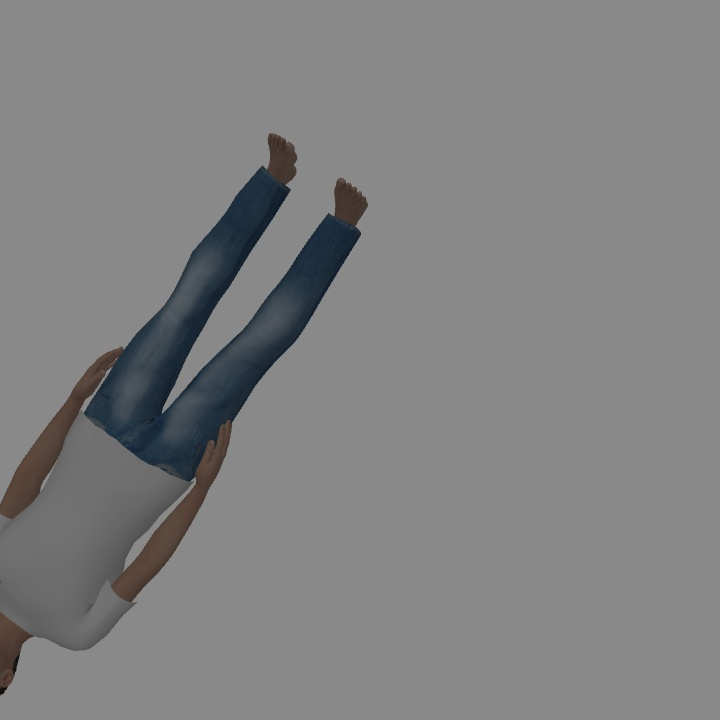victim: (1, 136, 364, 696)
